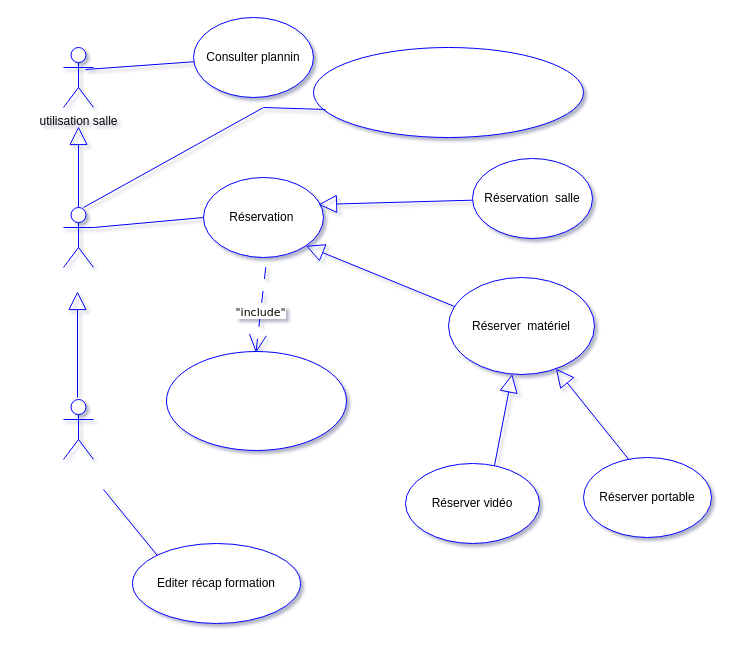
Some shapes in this 735 by 647 pixel diagram are drawn without their labels. The shapes that lost their labels are listed below. From the top down, each one's centre as x and y in pixels, then its label:
At point 448,92: "consulter récap horaire enseignant".
At point 78,237: "Enseignant".
At point 256,400: "Vérification disponibilité".
At point 78,429: "Responsable formation".
